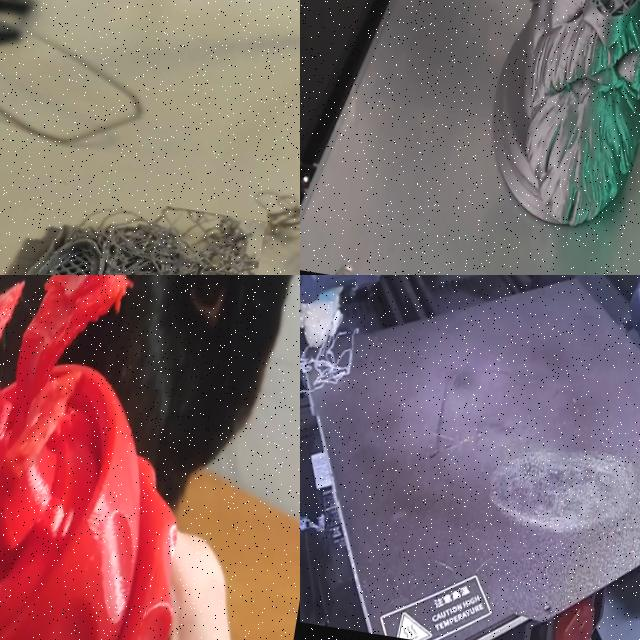spaghetti: (0, 182, 300, 275), (300, 322, 379, 427), (300, 468, 342, 625)
